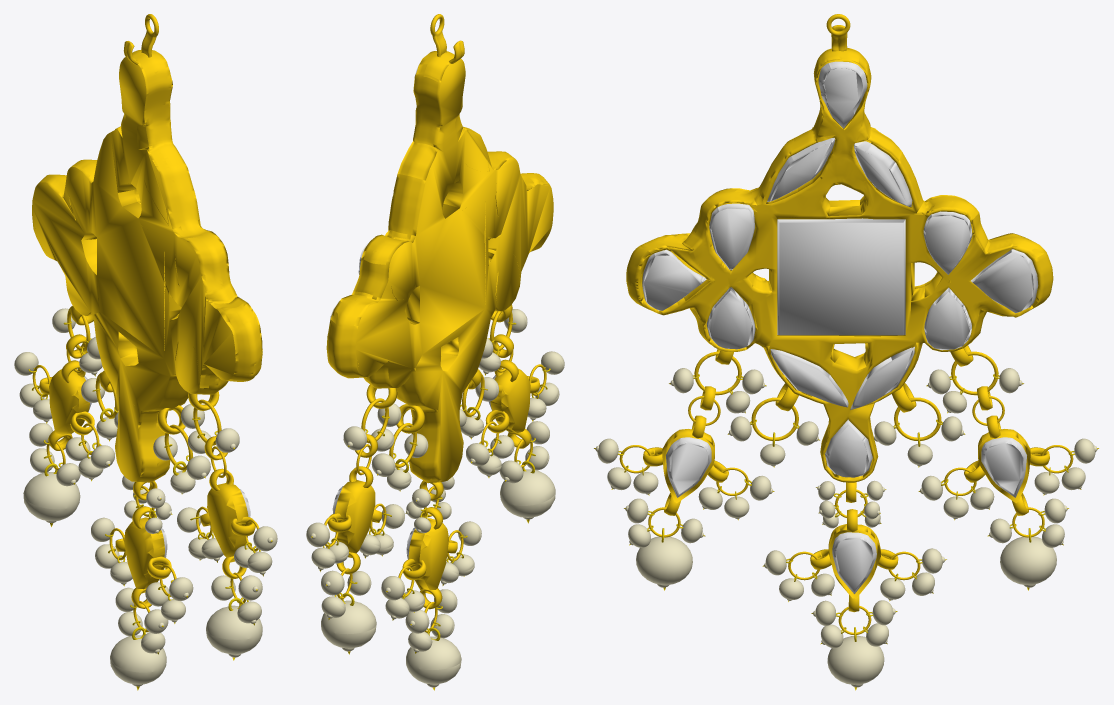
File: ear.glb
3 views of the same model, side by side, from view 1: azimuth 30°, elevation 25°; view 2: azimuth 150°, elevation 25°; view 3: azimuth 270°, elevation 25° (orthographic).
Parts seen in each view (by area): view 1: Plane.007; view 2: Plane.007; view 3: Plane.007.
Part boxes in pixels (x1,y1,x2,y2): Plane.007: (14,14,277,690); Plane.007: (306,14,564,690); Plane.007: (594,14,1098,690).
Bounding box in the file's own units: 0.0971 × 1.29 × 0.8699.
5 materials, 1 textured.
